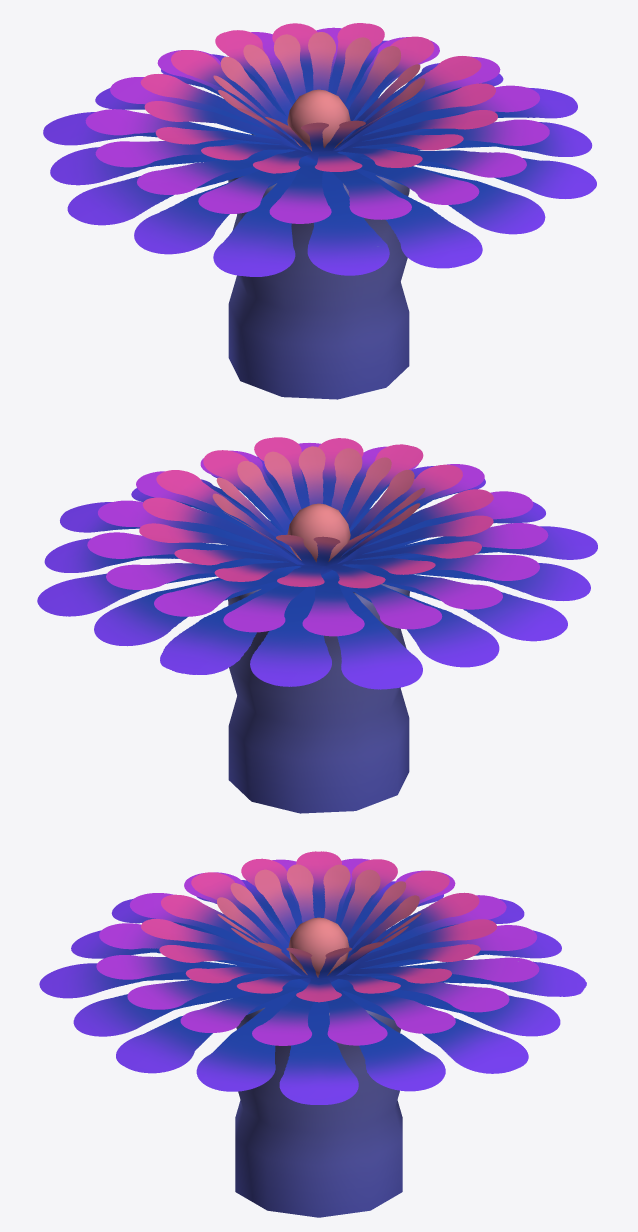
Rendered from Object_Flower_Unstable.fbx.
3 renders of one model, top to bottom at view 1: azimuth 30°, elevation 25°; view 2: azimuth 150°, elevation 25°; view 3: azimuth 270°, elevation 25°, orthographic. The views are drawn at different scales.
Visible parts, largest first — view 1: Object_Flower_Chaos; view 2: Object_Flower_Chaos; view 3: Object_Flower_Chaos.
Part boxes in pixels (box(x1,y1,x2,y2)): Object_Flower_Chaos: box(43, 23, 596, 399); Object_Flower_Chaos: box(37, 437, 597, 813); Object_Flower_Chaos: box(39, 851, 586, 1217).
Size of the model in its own units: 152 by 76.55 by 152.
